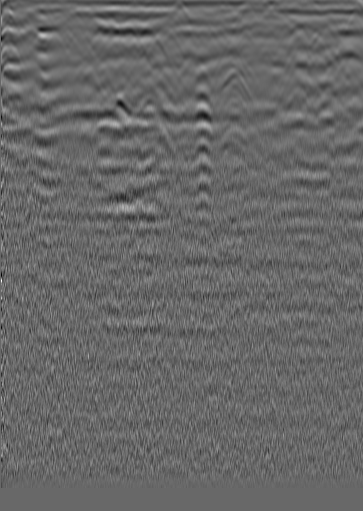가스: (215, 125, 253, 162)
상수: (308, 26, 328, 46)
오수: (22, 25, 42, 45)
우수: (158, 23, 178, 43)
